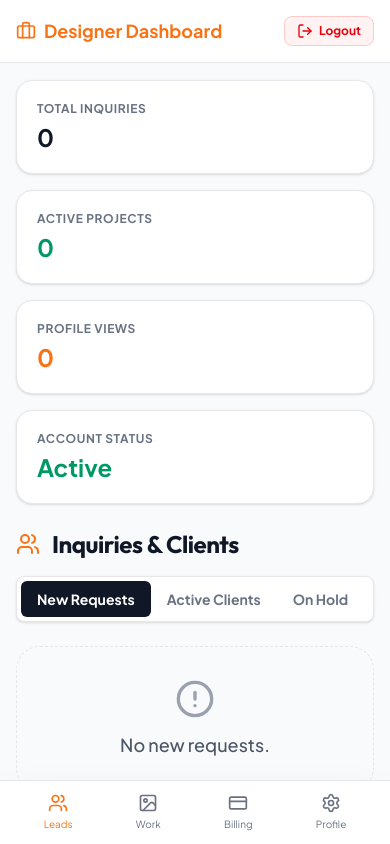
Test case: Vishwakarmans Integration Tests › Designer can set service area location via geolocation
Later steps or results of the test are not shown.
Click the button "Profile": (331, 812) [316,793,346,832]
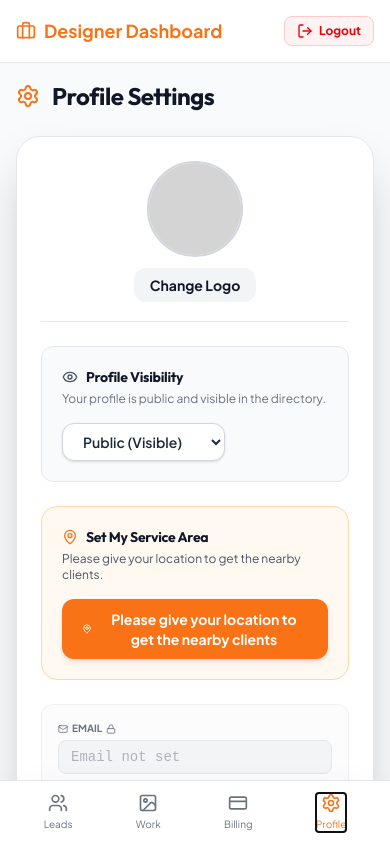
Now the button "Please give your location to get the nearby clients" is shown, box [62,599,328,659]
